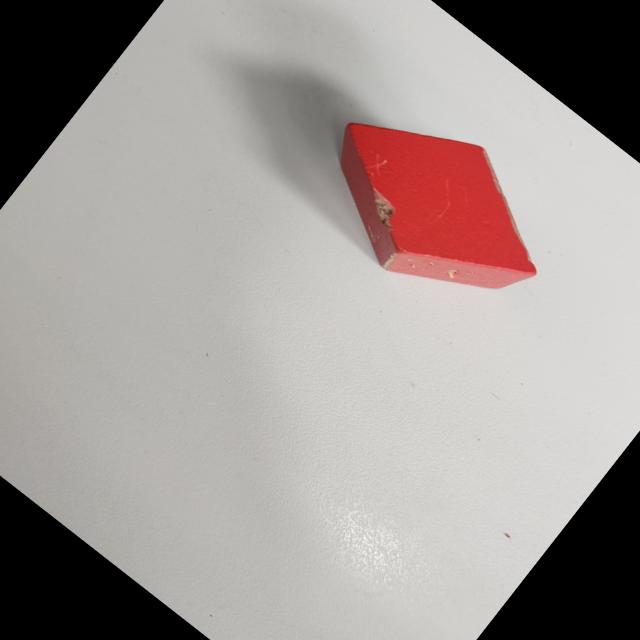broken: (290, 72, 578, 346)
